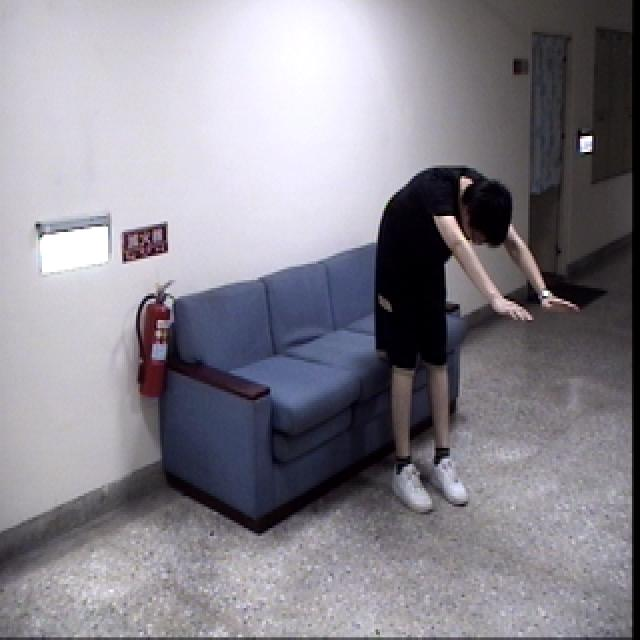bend: (364, 158, 584, 518)
